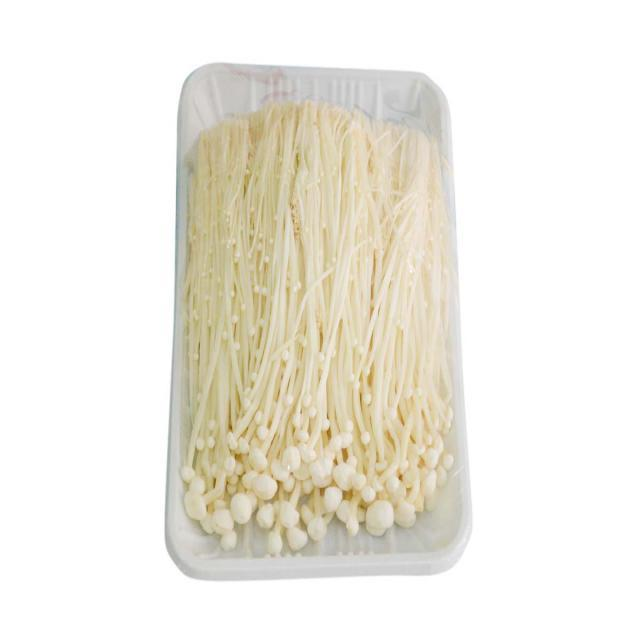Flammulina velutiper: (180, 101, 455, 549)
